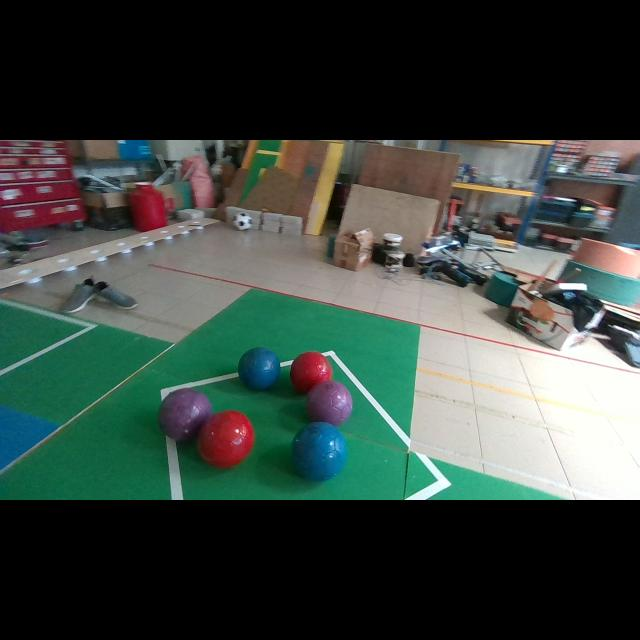B: (291, 422, 348, 481), (238, 348, 280, 390)
P: (158, 388, 212, 441), (308, 381, 351, 426)
R: (198, 410, 255, 468), (290, 351, 332, 392)
